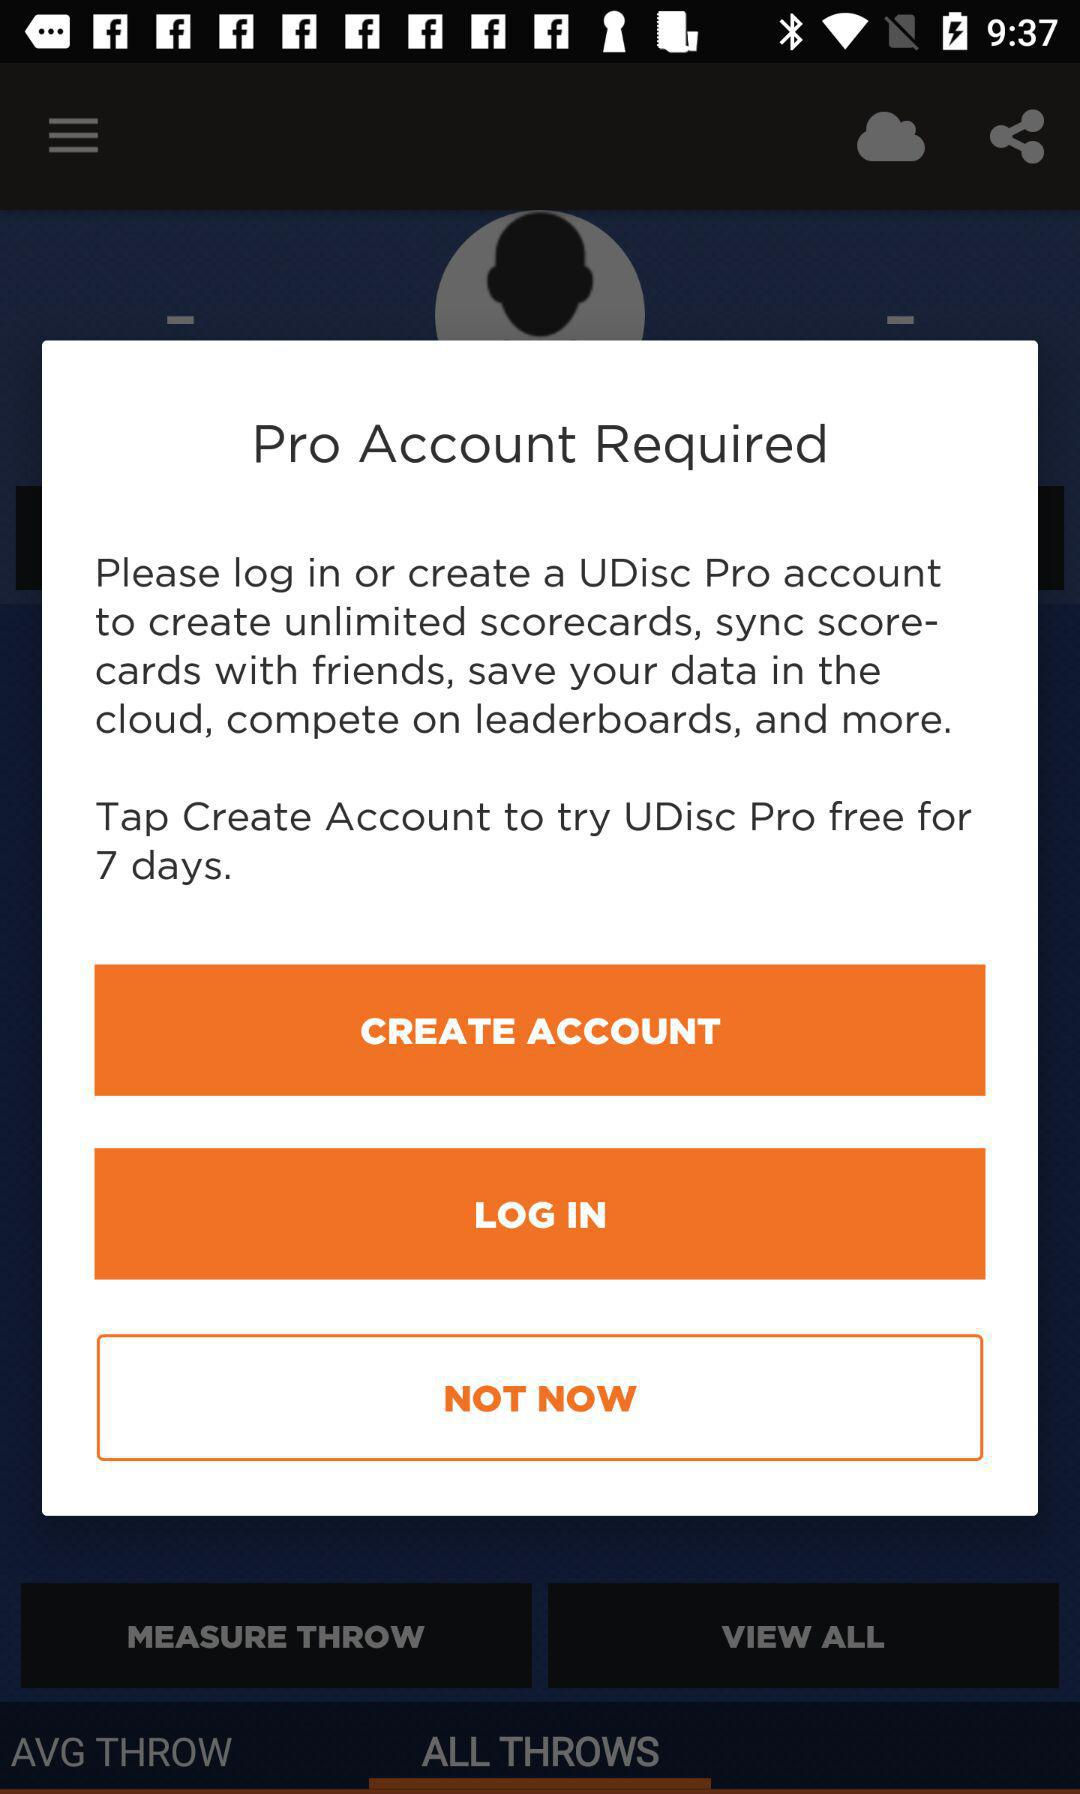Icon: (856, 111, 926, 163), (989, 110, 1045, 167), (49, 118, 100, 156)
Modal: (44, 341, 1038, 1517)
Text: (96, 557, 951, 737), (97, 801, 971, 885), (256, 424, 826, 472), (421, 1735, 660, 1768), (13, 1738, 234, 1768)
TextButton: (94, 1148, 986, 1280), (95, 965, 986, 1096), (97, 1334, 984, 1462), (547, 1583, 1060, 1690), (20, 1583, 534, 1689)
UpperTaskBar: (1, 1, 1080, 64)
